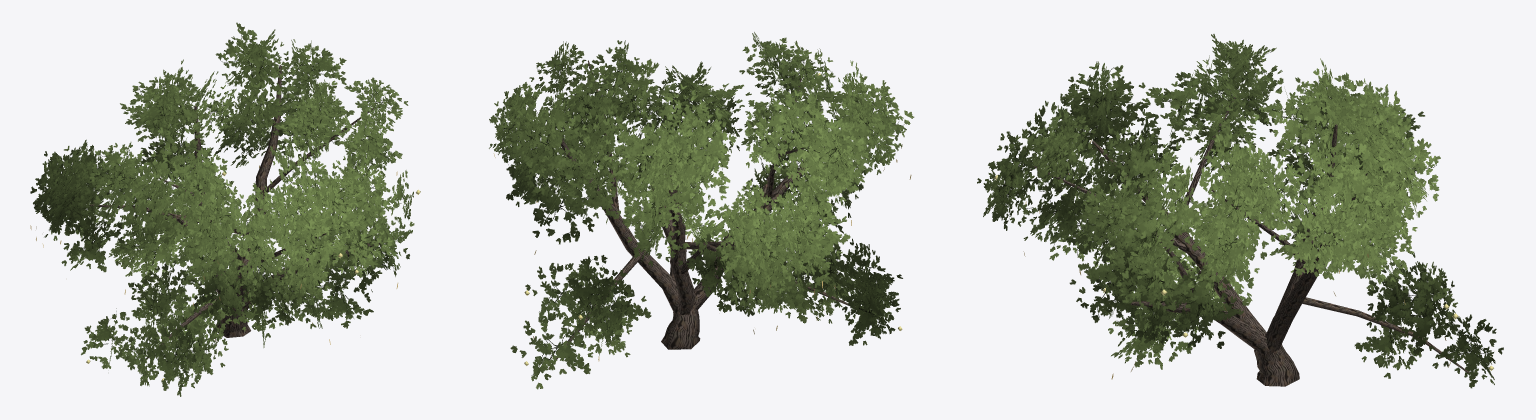
File: old-b.lod1.glb
3 views of the same model, side by side, from view 1: azimuth 30°, elevation 25°; view 2: azimuth 150°, elevation 25°; view 3: azimuth 270°, elevation 25° (orthographic). The views are drawn at different scales.
Visible parts, largest first — view 1: foliage, bark; view 2: foliage, bark; view 3: foliage, bark.
Boxes of the visible parts, x1,y1,x2,y2 form: foliage: (30,22,414,396); bark: (90,65,393,358); foliage: (489,32,914,389); bark: (548,60,860,369); foliage: (977,34,1503,388); bark: (1034,97,1469,386).
Bounding box in the file's own units: 12.96 × 9.5 × 15.34.
Materials: 4 (2 with a texture image).
